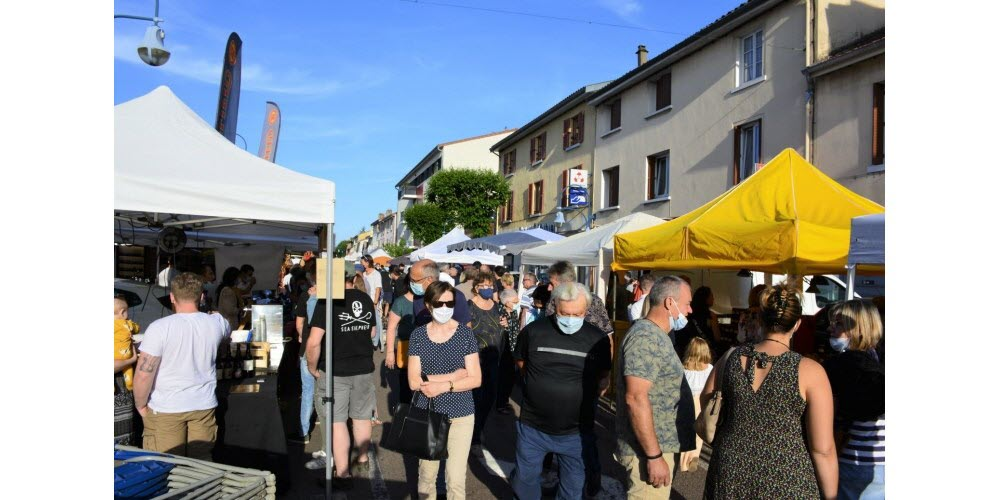with_incorrect_mask: (663, 289, 696, 332), (825, 310, 851, 351)
with_mask: (553, 296, 585, 336), (430, 294, 455, 327), (474, 276, 496, 298), (408, 271, 427, 295), (504, 294, 520, 312)
